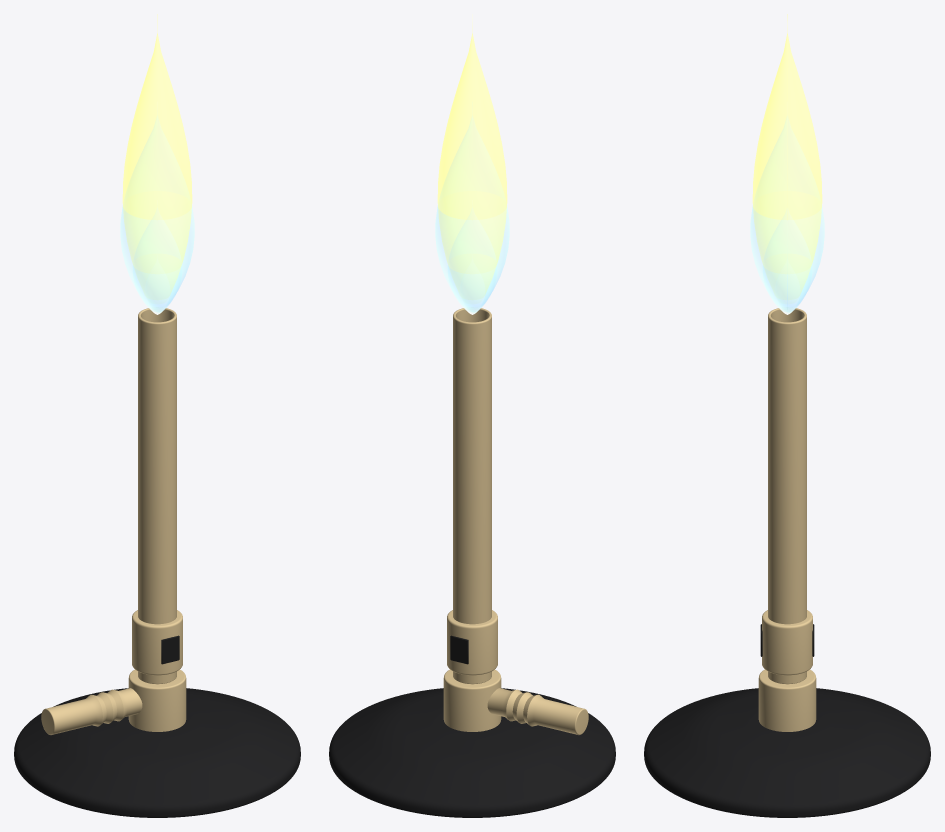
Rendered from bunsen-burner.glb.
3 views of the same model, side by side, from view 1: azimuth 30°, elevation 25°; view 2: azimuth 150°, elevation 25°; view 3: azimuth 270°, elevation 25° (orthographic).
Visible parts, largest first — view 1: Burner_base, Burner_barrel, Flame_yellow, Flame_blue_outer, Burner_inlet, Burner_union, Flame_gentle_outer, Burner_collar; view 2: Burner_base, Burner_barrel, Flame_yellow, Flame_blue_outer, Burner_inlet, Burner_union, Flame_gentle_outer, Burner_collar; view 3: Burner_base, Burner_barrel, Flame_yellow, Flame_blue_outer, Burner_union, Burner_collar, Flame_gentle_outer.
Boxes of the visible parts, box(x1,y1,x2,y2) form: Burner_base: box(14, 688, 300, 817); Burner_barrel: box(138, 308, 176, 684); Flame_yellow: box(122, 14, 192, 299); Flame_blue_outer: box(120, 116, 194, 309); Burner_inlet: box(41, 688, 142, 734); Burner_union: box(128, 669, 186, 731); Flame_gentle_outer: box(133, 208, 181, 312); Burner_collar: box(132, 610, 182, 675); Burner_base: box(329, 688, 615, 817); Burner_barrel: box(453, 308, 491, 684); Flame_yellow: box(437, 14, 507, 299); Flame_blue_outer: box(435, 116, 509, 309); Burner_inlet: box(487, 688, 588, 734); Burner_union: box(443, 669, 501, 731); Flame_gentle_outer: box(448, 208, 496, 312); Burner_collar: box(447, 610, 497, 675); Burner_base: box(644, 688, 930, 817); Burner_barrel: box(768, 308, 806, 684); Flame_yellow: box(752, 14, 822, 299); Flame_blue_outer: box(750, 116, 824, 309); Burner_union: box(758, 669, 816, 731); Burner_collar: box(762, 610, 812, 675); Flame_gentle_outer: box(763, 211, 811, 312).
Size of the model in its own units: 0.095 by 0.272 by 0.095.
